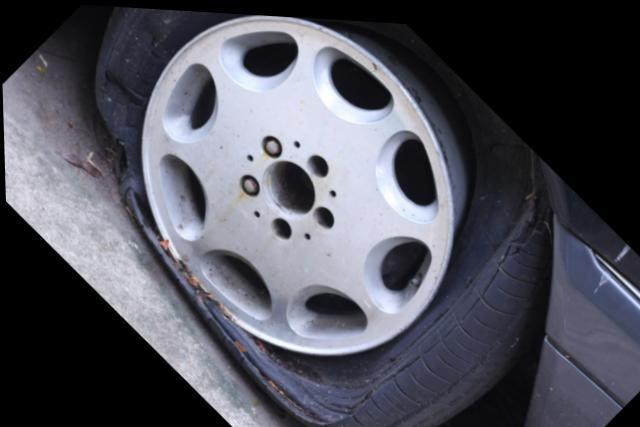tire flat: (93, 5, 554, 427)
